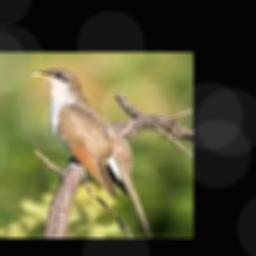Cuckoo: (27, 68, 153, 237)
